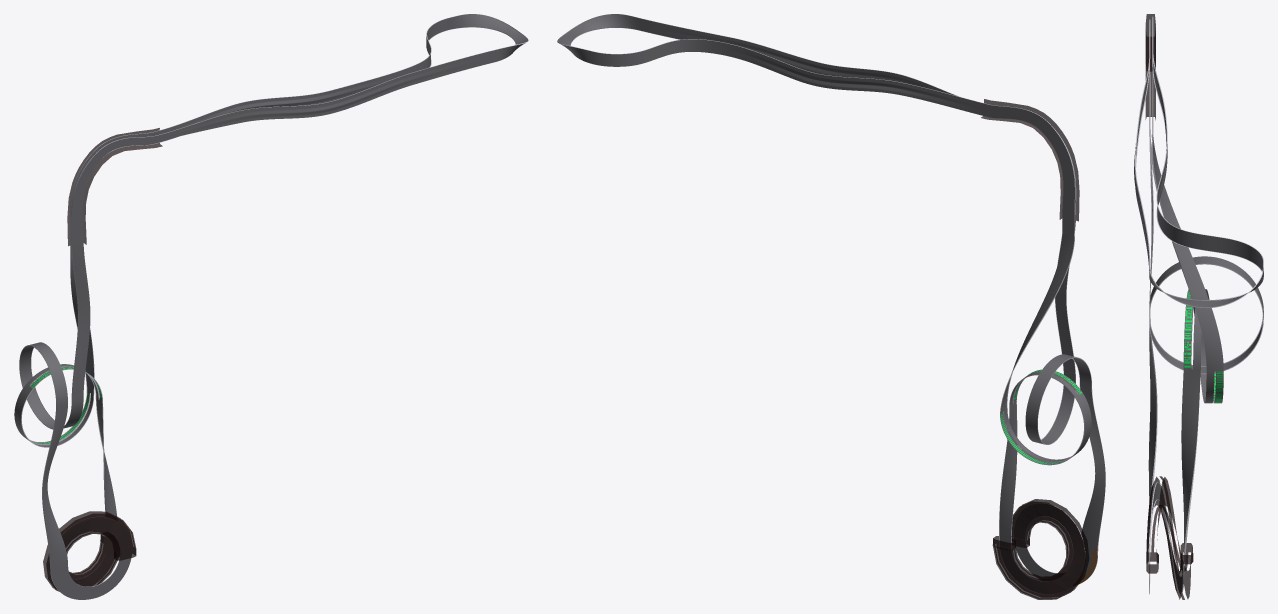
File: track.obj
3 renders of one model, left to right at view 1: azimuth 30°, elevation 25°; view 2: azimuth 150°, elevation 25°; view 3: azimuth 270°, elevation 25°, orthographic. The views are drawn at different scales.
Visible parts, largest first — view 1: GXMesh.003.Static_11_death_2, FZGXStream15.000_PreviewMesh, FZGXStream13.000_PreviewMesh, FZGXStream1.000_PreviewMesh, FZGXStream0.000_PreviewMesh, FZGXStream2.000_PreviewMesh, FZGXStream4.000_PreviewMesh, FZGXStream3.000_PreviewMesh, FZGXStream16.000_PreviewMesh, FZGXStream14.000_PreviewMesh, FZGXStream5.000_PreviewMesh.001, FZGXStream8.000_PreviewMesh; view 2: GXMesh.003.Static_11_death_2, FZGXStream13.000_PreviewMesh, FZGXStream15.000_PreviewMesh, FZGXStream4.000_PreviewMesh, FZGXStream1.000_PreviewMesh, FZGXStream2.000_PreviewMesh, FZGXStream12.000_PreviewMesh, FZGXStream5.000_PreviewMesh.001, FZGXStream14.000_PreviewMesh, FZGXStream0.000_PreviewMesh, FZGXStream5.000_PreviewMesh, FZGXStream6.000_PreviewMesh (+2 smaller); view 3: FZGXStream5.000_PreviewMesh.001, GXMesh.003.Static_11_death_2, FZGXStream13.000_PreviewMesh, FZGXStream1.000_PreviewMesh, FZGXStream2.000_PreviewMesh, FZGXStream7.000_PreviewMesh, FZGXStream15.000_PreviewMesh, FZGXStream8.000_PreviewMesh, FZGXStream14.000_PreviewMesh, FZGXStream9.000_PreviewMesh, FZGXStream4.000_PreviewMesh, FZGXStream6.000_PreviewMesh (+4 smaller).
Part boxes in pixels (x1,y1,x2,y2): GXMesh.003.Static_11_death_2: (43, 128, 162, 591); FZGXStream15.000_PreviewMesh: (155, 50, 493, 141); FZGXStream13.000_PreviewMesh: (153, 18, 448, 143); FZGXStream1.000_PreviewMesh: (19, 342, 83, 429); FZGXStream0.000_PreviewMesh: (71, 237, 90, 402); FZGXStream2.000_PreviewMesh: (42, 403, 67, 569); FZGXStream4.000_PreviewMesh: (49, 517, 131, 586); FZGXStream3.000_PreviewMesh: (50, 550, 131, 599); FZGXStream16.000_PreviewMesh: (71, 136, 154, 240); FZGXStream14.000_PreviewMesh: (449, 14, 528, 62); FZGXStream5.000_PreviewMesh.001: (18, 261, 116, 541); FZGXStream8.000_PreviewMesh: (14, 364, 98, 443); GXMesh.003.Static_11_death_2: (981, 99, 1089, 599); FZGXStream13.000_PreviewMesh: (593, 39, 988, 116); FZGXStream15.000_PreviewMesh: (639, 18, 959, 96); FZGXStream4.000_PreviewMesh: (999, 503, 1085, 594); FZGXStream1.000_PreviewMesh: (1025, 354, 1091, 444); FZGXStream2.000_PreviewMesh: (1079, 383, 1105, 555); FZGXStream12.000_PreviewMesh: (988, 104, 1075, 215); FZGXStream5.000_PreviewMesh.001: (999, 234, 1091, 542); FZGXStream14.000_PreviewMesh: (557, 14, 639, 63); FZGXStream0.000_PreviewMesh: (1055, 214, 1075, 381); FZGXStream5.000_PreviewMesh: (1000, 402, 1017, 547); FZGXStream6.000_PreviewMesh: (999, 405, 1012, 544); FZGXStream5.000_PreviewMesh.001: (1153, 137, 1223, 554); GXMesh.003.Static_11_death_2: (1145, 14, 1193, 599); FZGXStream13.000_PreviewMesh: (1152, 49, 1263, 272); FZGXStream1.000_PreviewMesh: (1149, 256, 1263, 374); FZGXStream2.000_PreviewMesh: (1148, 319, 1157, 520); FZGXStream7.000_PreviewMesh: (1183, 289, 1214, 403); FZGXStream15.000_PreviewMesh: (1134, 53, 1149, 270); FZGXStream8.000_PreviewMesh: (1192, 289, 1223, 403); FZGXStream14.000_PreviewMesh: (1149, 261, 1263, 307); FZGXStream9.000_PreviewMesh: (1151, 142, 1214, 370); FZGXStream4.000_PreviewMesh: (1149, 482, 1184, 594); FZGXStream6.000_PreviewMesh: (1184, 370, 1200, 561).
Bounding box in the file's own units: 2610 × 2274 × 453.
